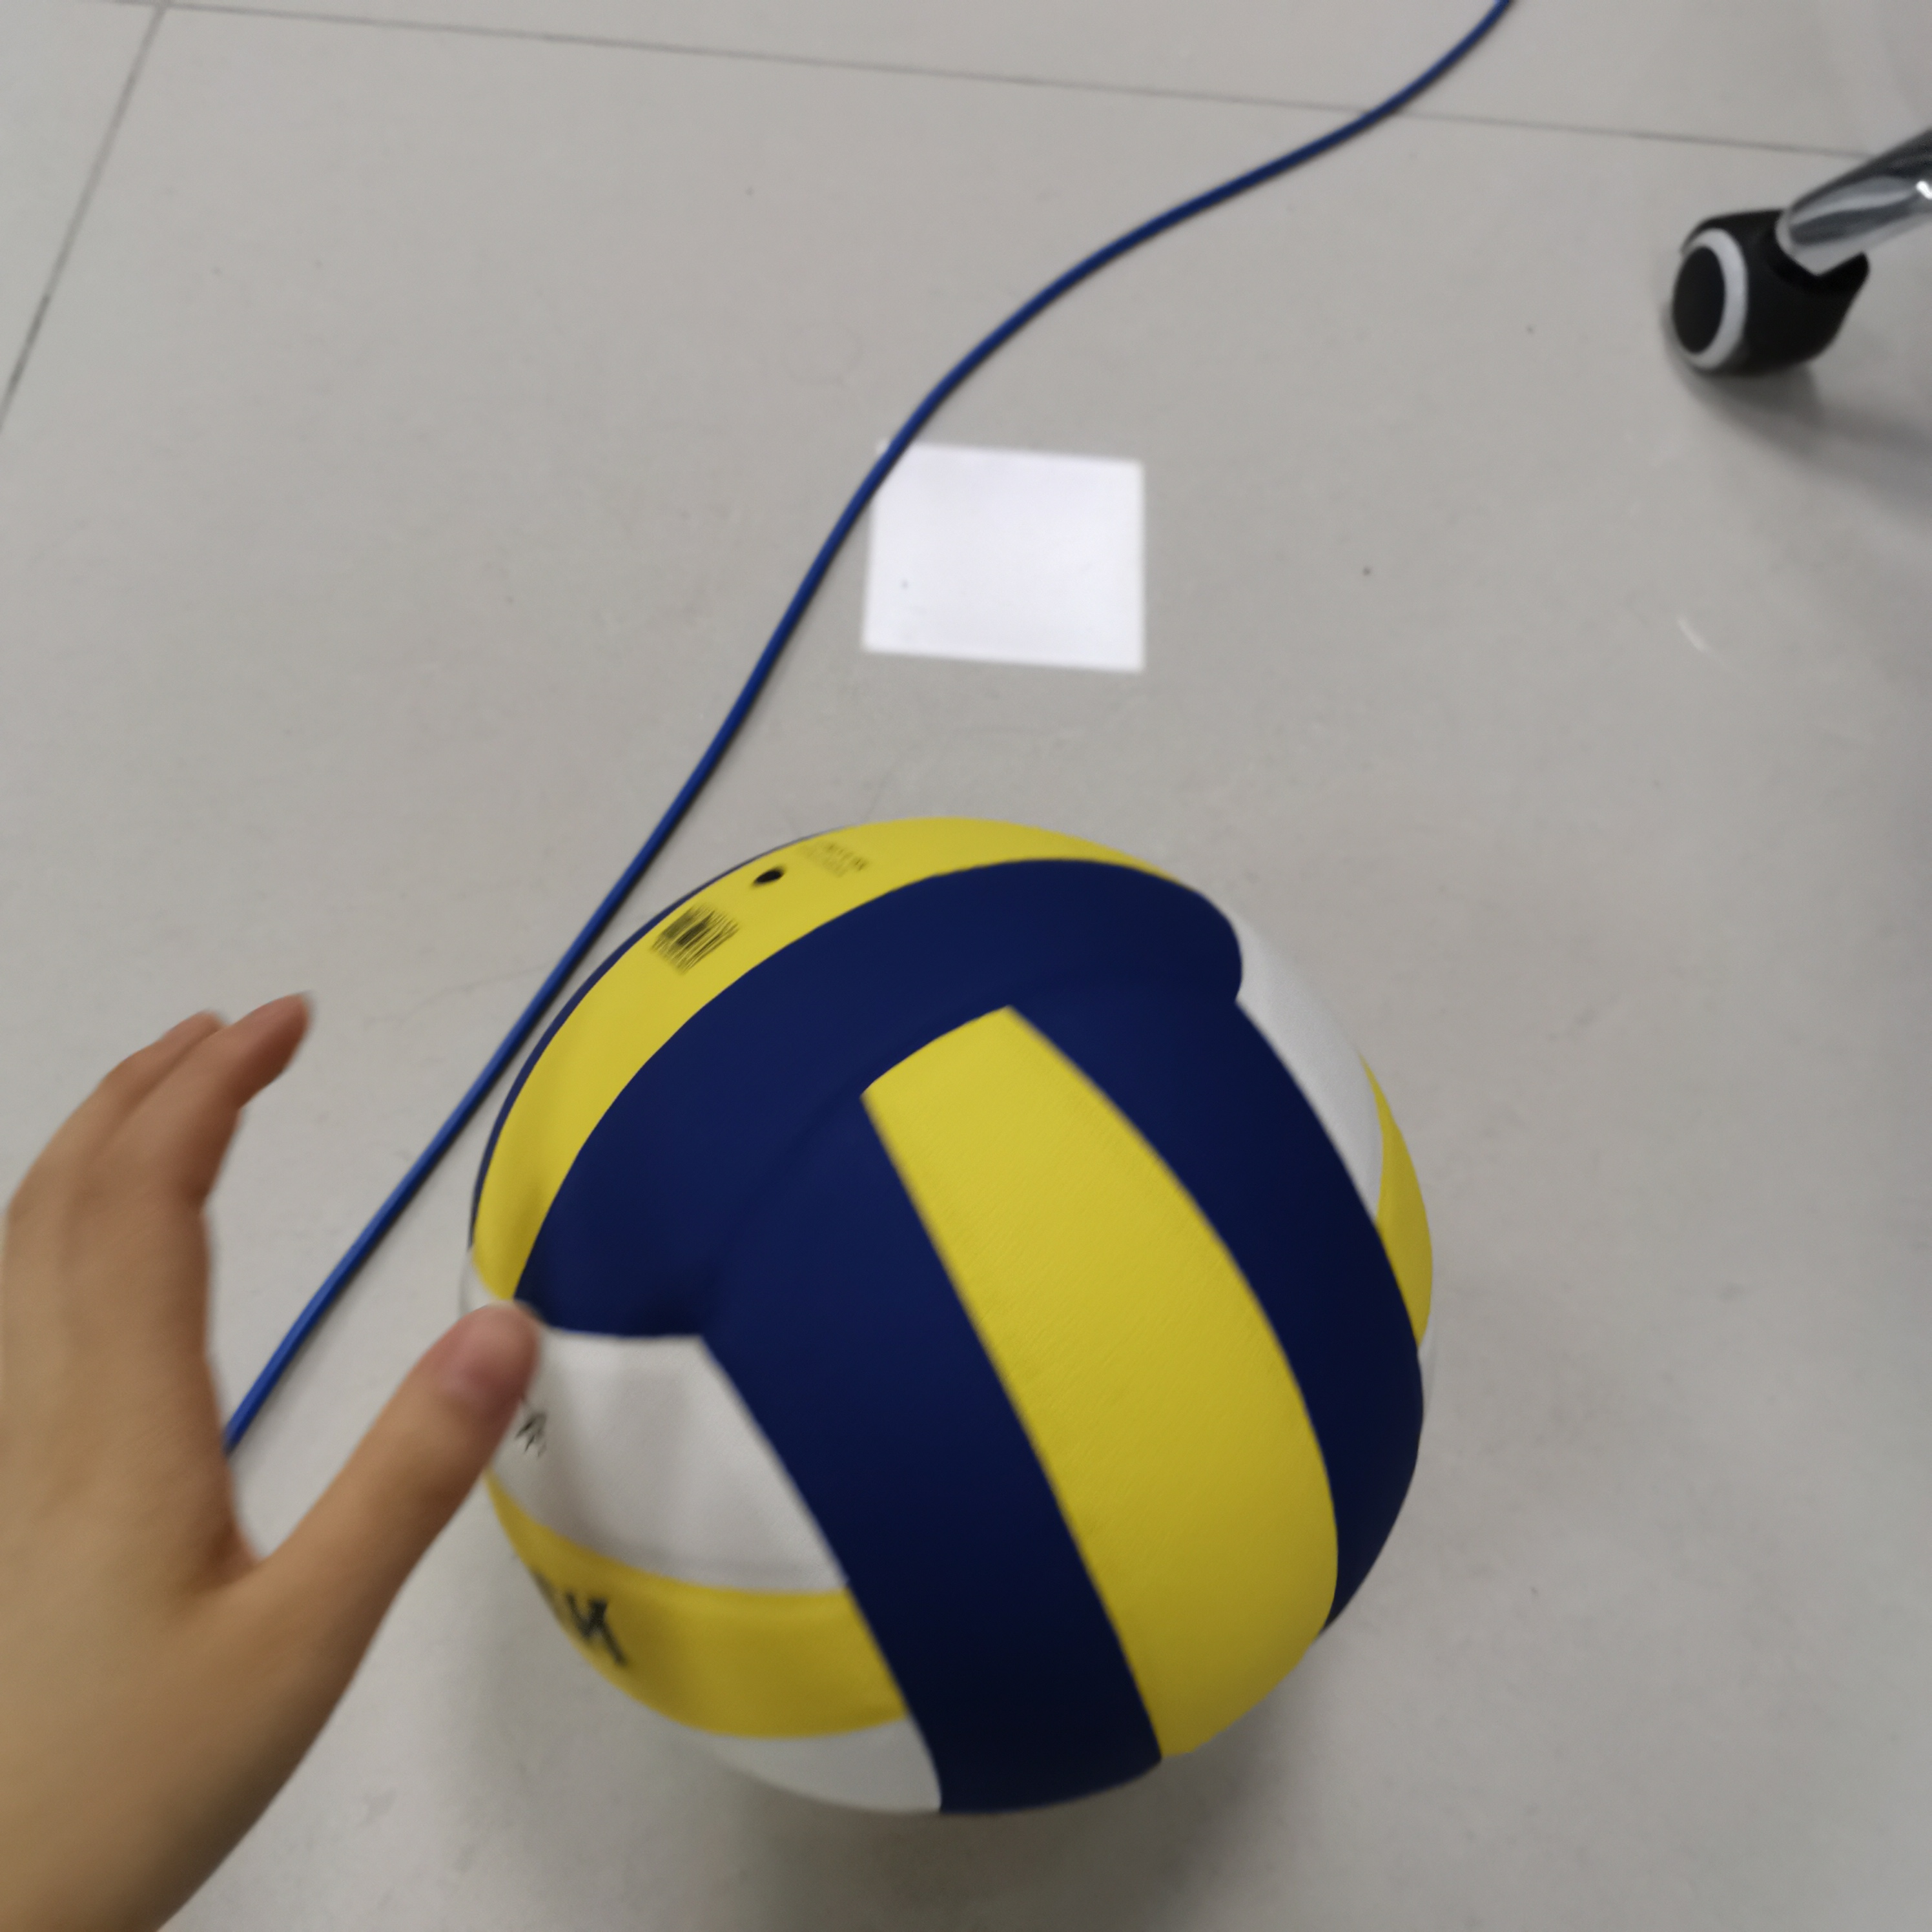volleyball: (435, 814, 1435, 1824)
